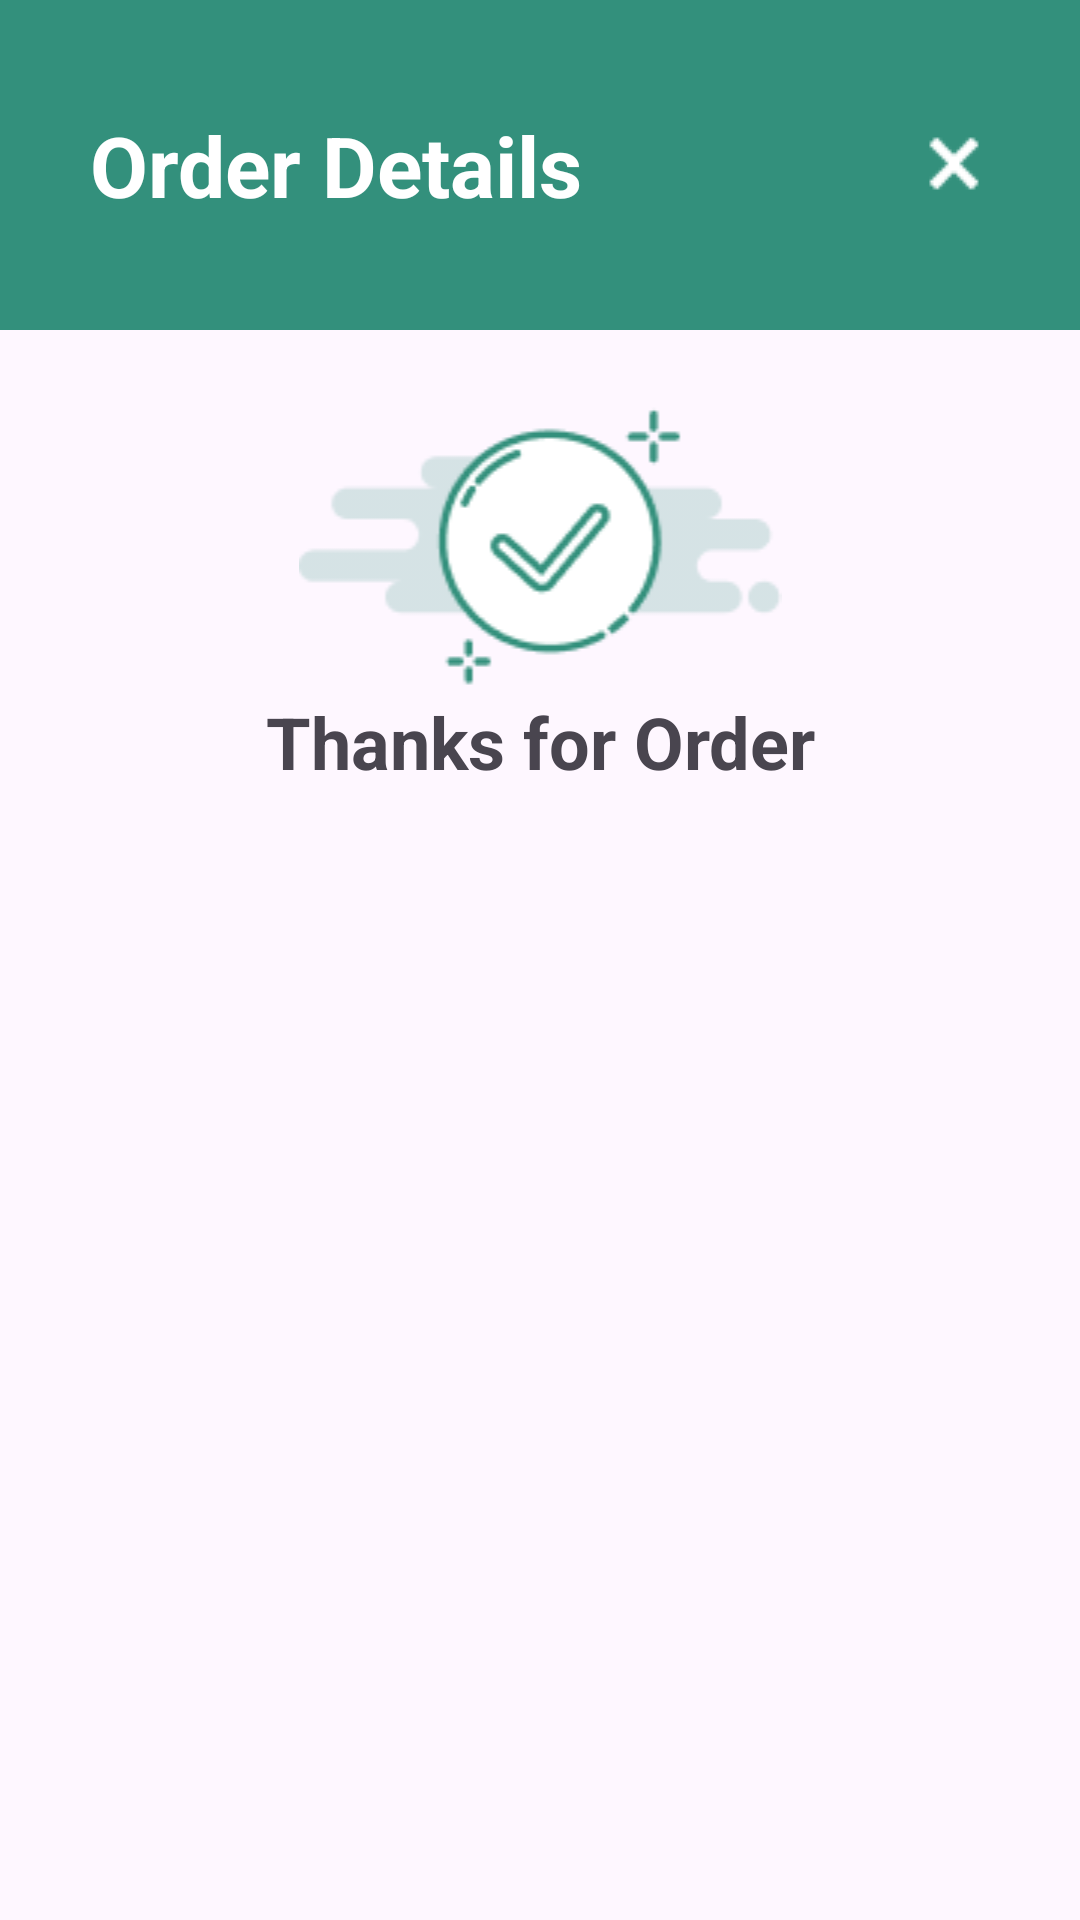

Icon click points for this 1080w x 1920h phone screenshot, format (x,y):
cancle: (954,163)
